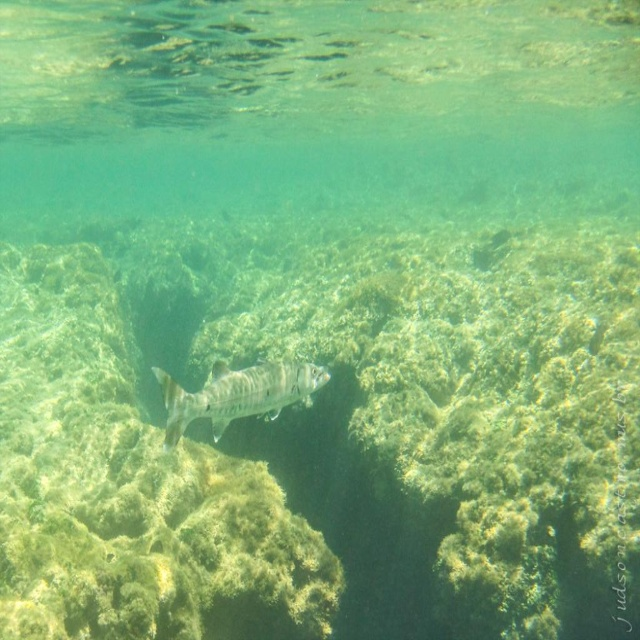Fish: (150, 361, 330, 452)
